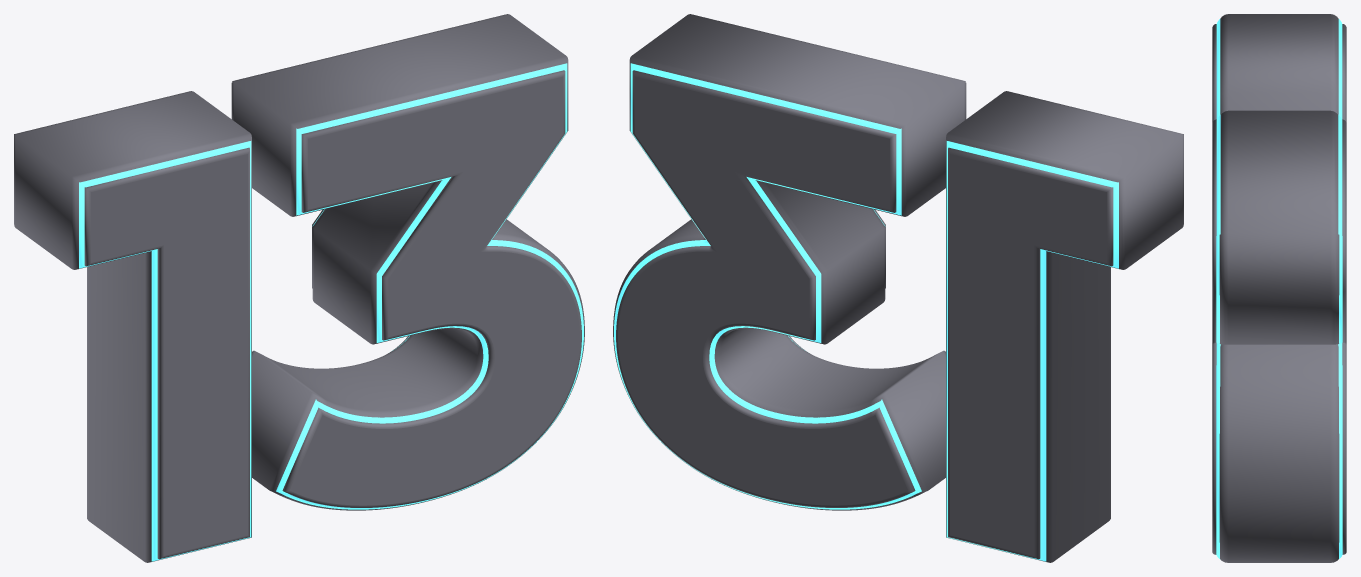
Rendered from Number 13.fbx.
3 renders of one model, left to right at view 1: azimuth 30°, elevation 25°; view 2: azimuth 150°, elevation 25°; view 3: azimuth 270°, elevation 25°, orthographic. The views are drawn at different scales.
Parts seen in each view (by area): view 1: N_13_smaller, N_13_side, N_13_border; view 2: N_13_smaller, N_13_side, N_13_border; view 3: N_13_side, N_13_smaller, N_13_border.
Part boxes in pixels (x1=…): N_13_smaller: x1=84, y1=70, x2=581, y2=559; N_13_side: x1=14, y1=14, x2=584, y2=562; N_13_border: x1=79, y1=63, x2=583, y2=561; N_13_smaller: x1=616, y1=70, x2=1113, y2=559; N_13_side: x1=613, y1=14, x2=1183, y2=562; N_13_border: x1=614, y1=63, x2=1118, y2=561; N_13_side: x1=1219, y1=14, x2=1339, y2=562; N_13_smaller: x1=1212, y1=24, x2=1346, y2=554; N_13_border: x1=1216, y1=19, x2=1342, y2=558.
Bounding box in the file's own units: 73.14 × 56.08 × 18.4.
